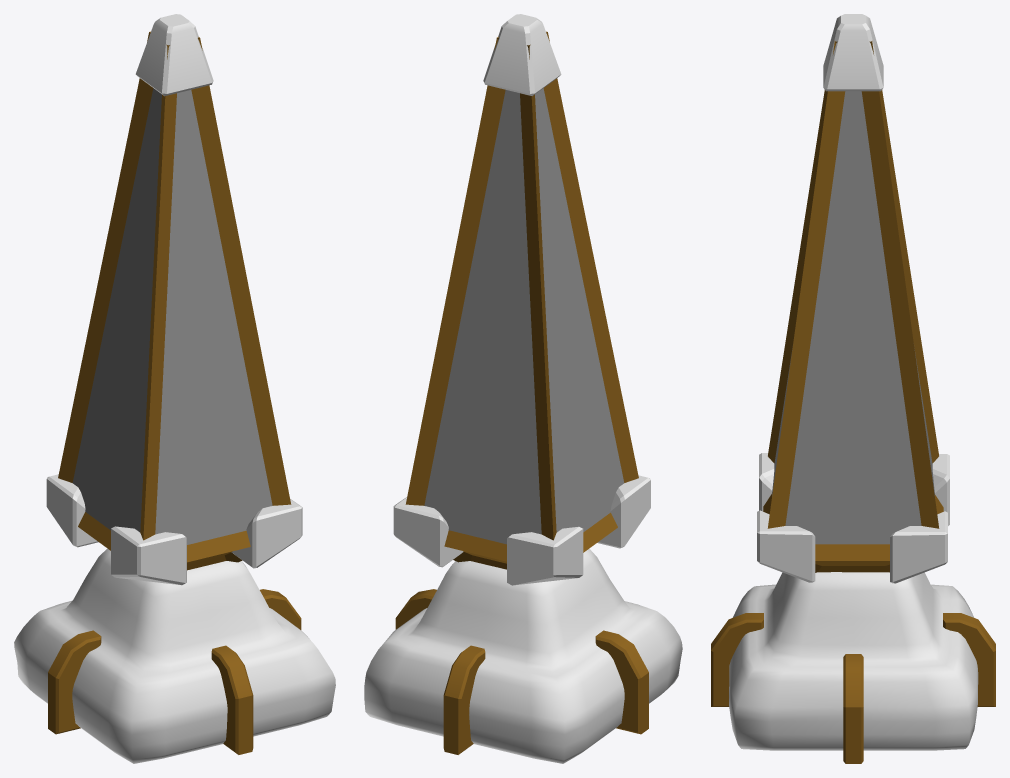
Rendered from pylon.glb.
The picture shows the model from 3 angles, left to right: view 1: azimuth 30°, elevation 25°; view 2: azimuth 150°, elevation 25°; view 3: azimuth 270°, elevation 25°; orthographic projection.
Parts seen in each view (by area): view 1: Pylon, PlinthBake.001, PylonFrame, Cube, Corner.002, Support, Support.003, Corner.003, Corner.001, Support.001; view 2: Pylon, PlinthBake.001, PylonFrame, Cube, Corner.001, Support.002, Support.003, Corner, Corner.002, Support.001; view 3: PlinthBake.001, Pylon, PylonFrame, Cube, Corner.003, Corner, Support.001, Support, Support.002, Corner.001, Corner.002.
Part boxes in pixels (left/top/right/bottom): Pylon: left=72, top=88, right=272, bottom=564; PlinthBake.001: left=14, top=548, right=335, bottom=763; PylonFrame: left=58, top=31, right=291, bottom=570; Cube: left=135, top=14, right=213, bottom=96; Corner.002: left=111, top=526, right=186, bottom=585; Support: left=211, top=645, right=253, bottom=754; Support.003: left=48, top=630, right=101, bottom=734; Corner.003: left=231, top=498, right=302, bottom=568; Corner.001: left=46, top=474, right=98, bottom=547; Support.001: left=260, top=589, right=301, bottom=629; Pylon: left=424, top=88, right=624, bottom=563; PlinthBake.001: left=364, top=549, right=682, bottom=763; PylonFrame: left=405, top=31, right=638, bottom=569; Cube: left=483, top=14, right=561, bottom=95; Corner.001: left=507, top=526, right=583, bottom=585; Support.002: left=443, top=645, right=485, bottom=754; Support.003: left=595, top=630, right=648, bottom=734; Corner: left=393, top=497, right=463, bottom=567; Corner.002: left=597, top=475, right=650, bottom=548; Support.001: left=395, top=589, right=436, bottom=629; PlinthBake.001: left=729, top=572, right=978, bottom=750; Pylon: left=772, top=91, right=934, bottom=565; PylonFrame: left=763, top=41, right=943, bottom=572; Cube: left=823, top=14, right=883, bottom=91; Corner.003: left=757, top=510, right=815, bottom=582; Corner: left=890, top=511, right=947, bottom=583; Support.001: left=843, top=654, right=863, bottom=763; Support: left=711, top=613, right=763, bottom=706; Support.002: left=943, top=613, right=995, bottom=706; Corner.001: left=932, top=454, right=949, bottom=525; Corner.002: left=759, top=453, right=774, bottom=511.
Size of the model in its own units: 0.5893 by 1.56 by 0.5893.
